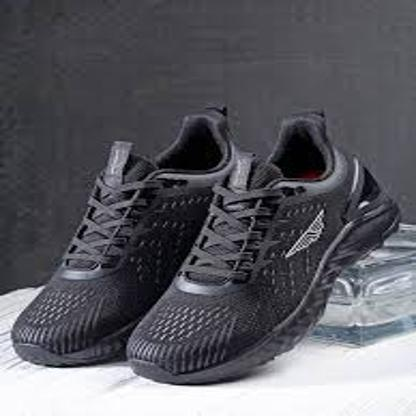not trash: (126, 114, 405, 387), (11, 98, 270, 373)
